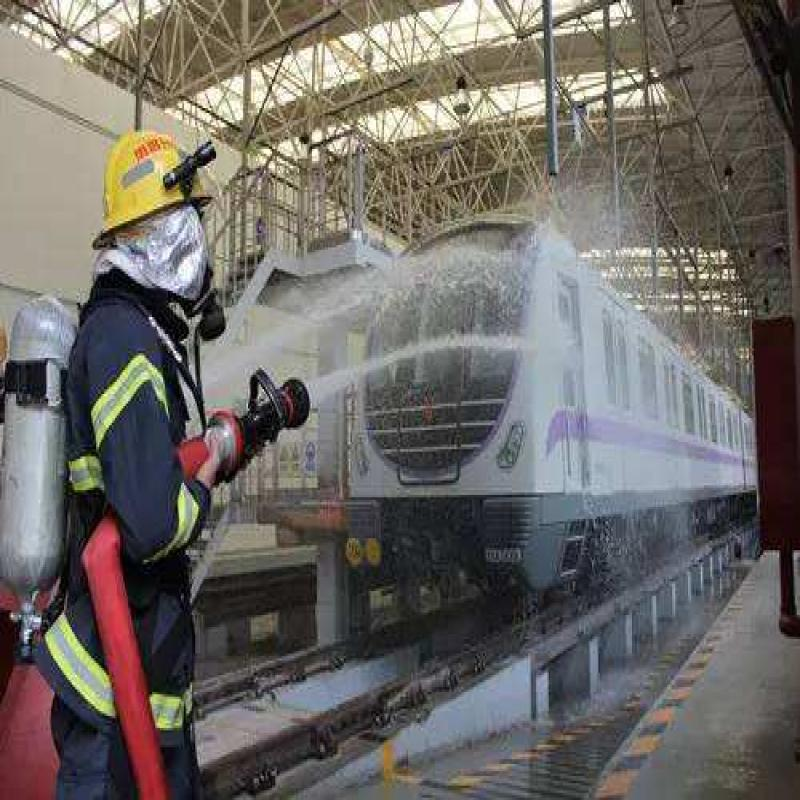train: (365, 229, 760, 623)
